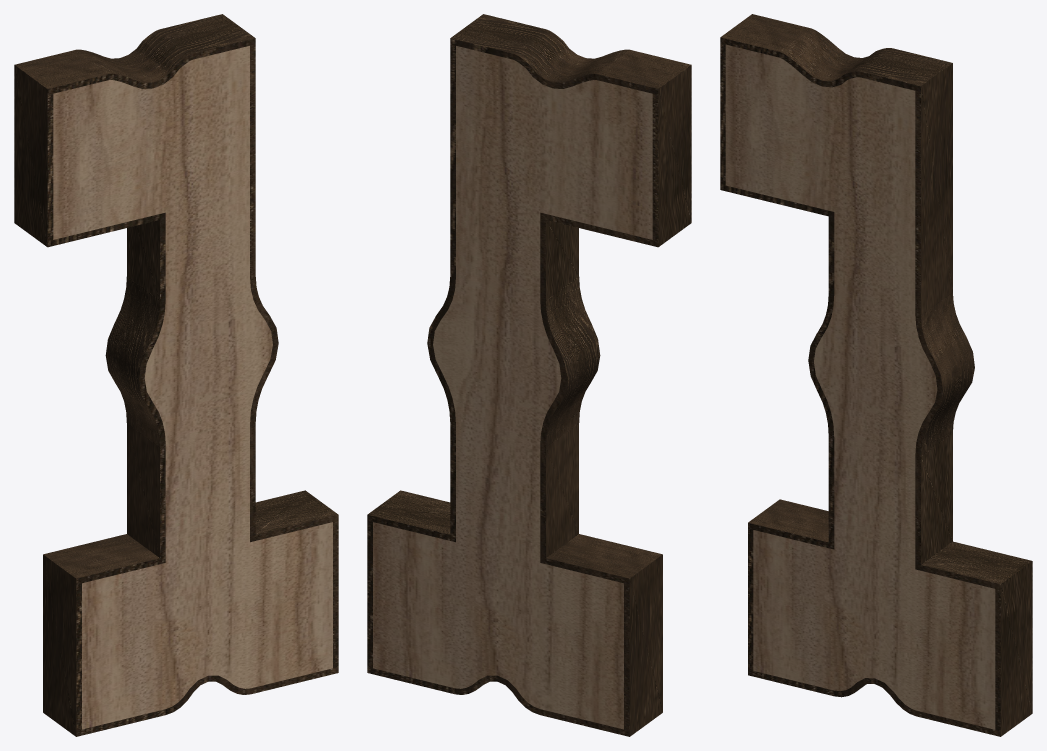
3 renders of one model, left to right at view 1: azimuth 30°, elevation 25°; view 2: azimuth 150°, elevation 25°; view 3: azimuth 330°, elevation 25°, orthographic. The views are drawn at different scales.
Visible parts, largest first — view 1: 1, 1_outline; view 2: 1, 1_outline; view 3: 1, 1_outline.
Part boxes in pixels (x1,y1,x2,y2): 1: (53,46,332,729); 1_outline: (14,14,338,736); 1: (373,46,652,729); 1_outline: (367,14,691,736); 1: (725,44,995,729); 1_outline: (720,14,1032,736).
Bounding box in the file's own units: 50.6 × 109 × 10.
2 materials, 2 textured.
